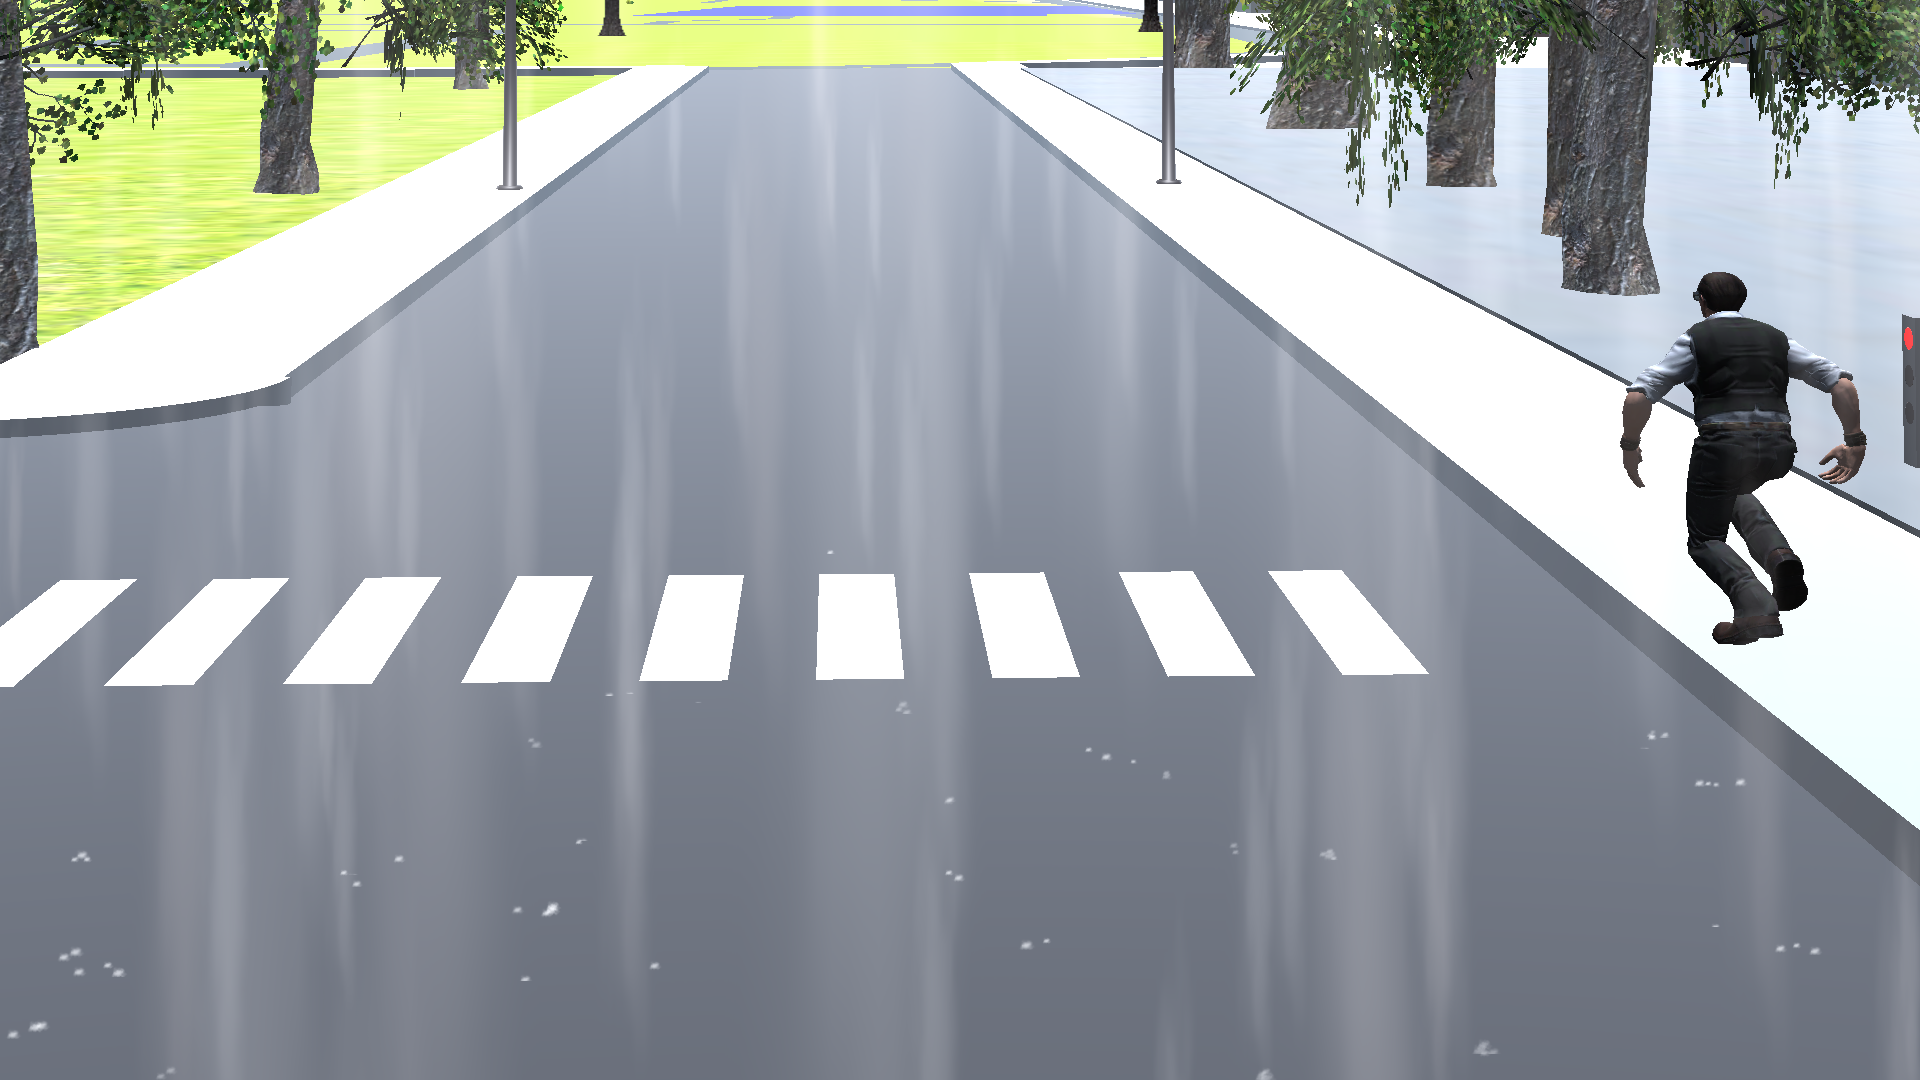pedestrian: (1617, 267, 1878, 660)
